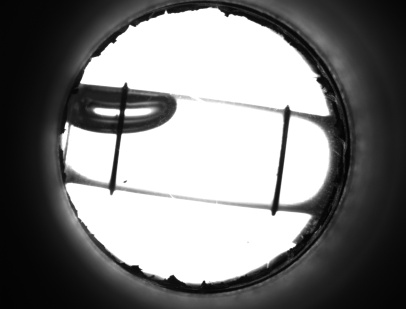line: (269, 125, 291, 195), (106, 141, 124, 176)
